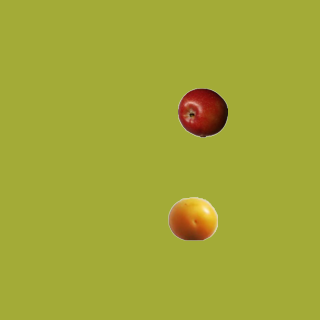Apple Braeburn: (177, 87, 227, 137)
Cherry Wax Yellow: (167, 193, 217, 243)
